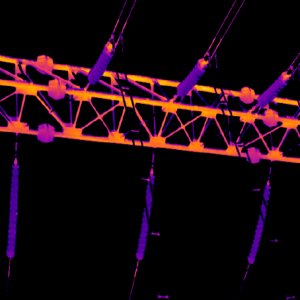insulator: (245, 179, 273, 264), (134, 169, 155, 262), (4, 156, 20, 259), (175, 57, 208, 97), (255, 70, 291, 106), (86, 40, 115, 84)
